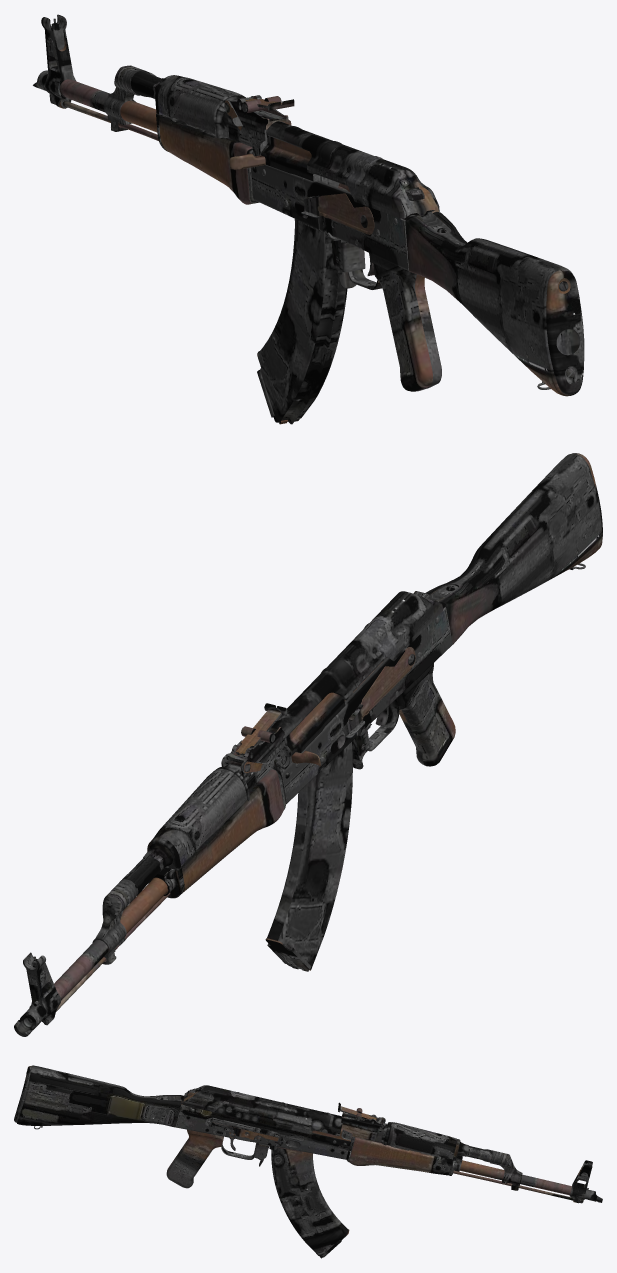
The picture shows the model from 3 angles, top to bottom: view 1: azimuth 30°, elevation 25°; view 2: azimuth 150°, elevation 25°; view 3: azimuth 270°, elevation 25°; orthographic projection. The views are drawn at different scales.
Visible parts, largest first — view 1: p_ak47; view 2: p_ak47; view 3: p_ak47.
Boxes of the visible parts, box(x1,y1,x2,y2) form: p_ak47: box(33, 14, 584, 424); p_ak47: box(14, 453, 602, 1036); p_ak47: box(14, 1065, 602, 1258).
Bounding box in the file's own units: 0.1147 × 0.467 × 1.34.
Materials: 1 (1 with a texture image).
